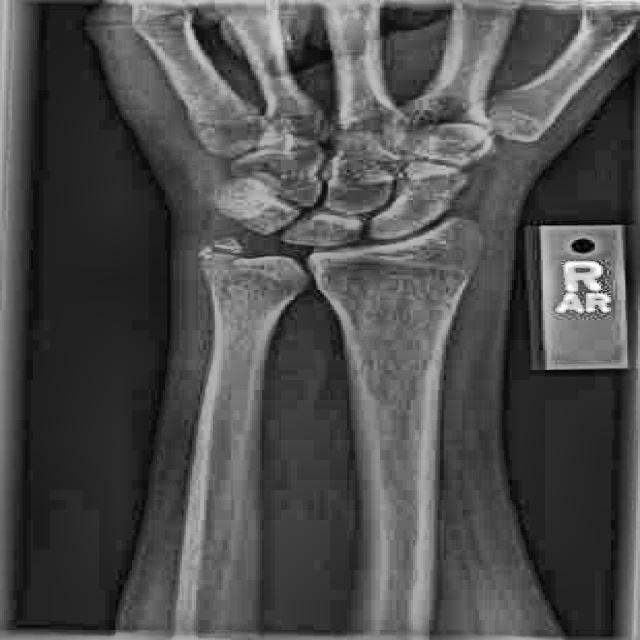wrist positive: (220, 246, 325, 294)
